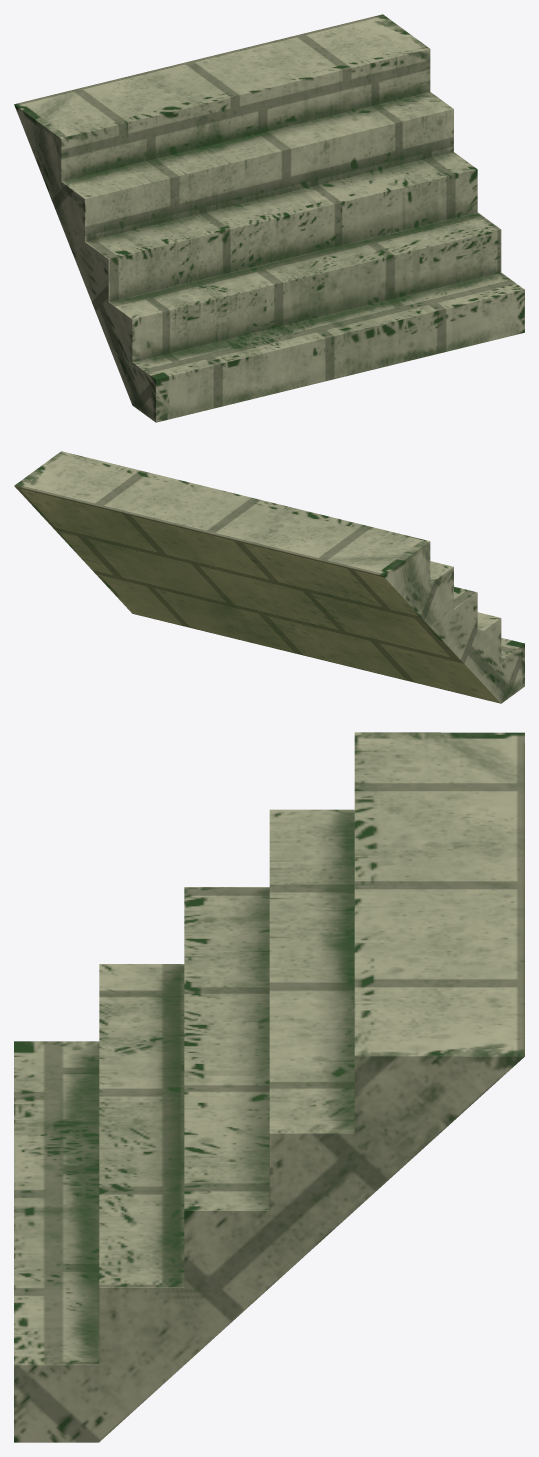
The model's file is Short Wide Stair.fbx.
3 renders of one model, top to bottom at view 1: azimuth 30°, elevation 25°; view 2: azimuth 150°, elevation 25°; view 3: azimuth 270°, elevation 25°, orthographic. The views are drawn at different scales.
Visible parts, largest first — view 1: Short Wide Stair; view 2: Short Wide Stair; view 3: Short Wide Stair.
Boxes of the visible parts, bbox=[...] form: Short Wide Stair: bbox=[14, 14, 524, 422]; Short Wide Stair: bbox=[14, 451, 524, 703]; Short Wide Stair: bbox=[14, 732, 524, 1442].
Bounding box in the file's own units: 400 × 222 × 267.
1 material, 1 textured.
